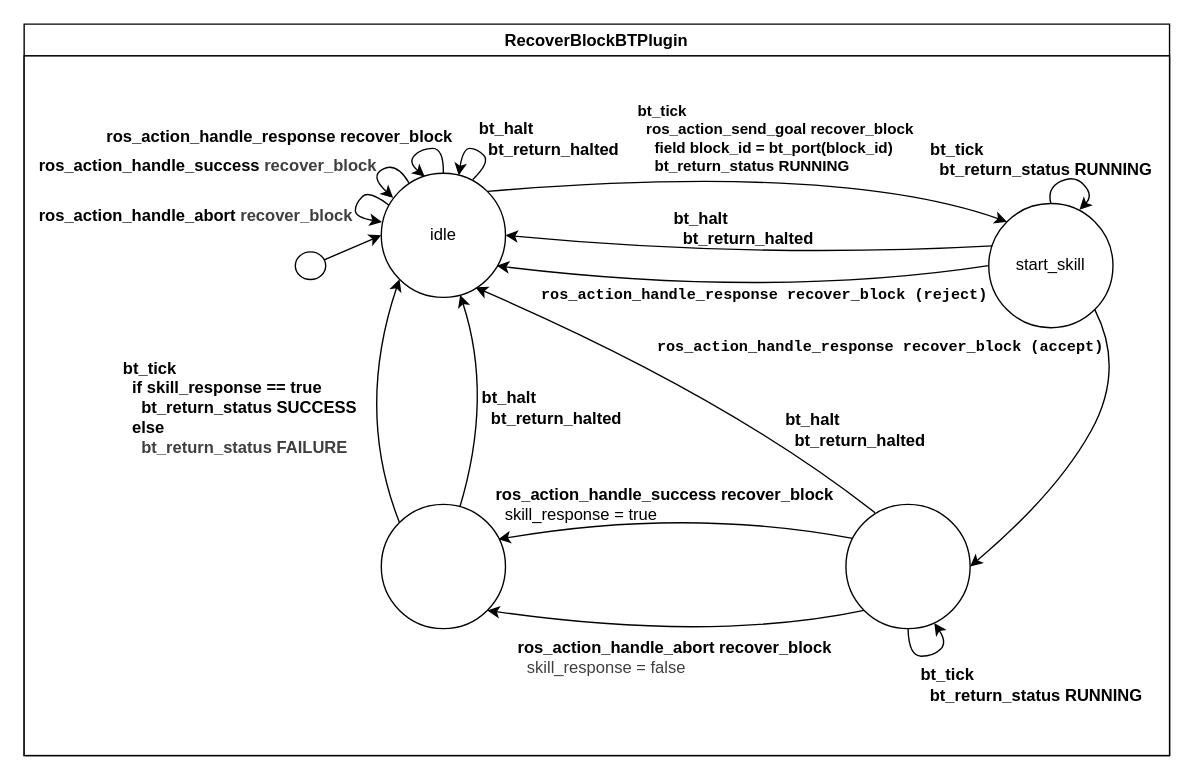
Image size: 1194x780. Some labels were removed from this diagram. The shapes that lost their labels are listed below. From the top down, each one's box as (x1, y1, x2, y2) in pixels, then its label:
(380, 503, 505, 629): answer
(845, 503, 970, 629): running
